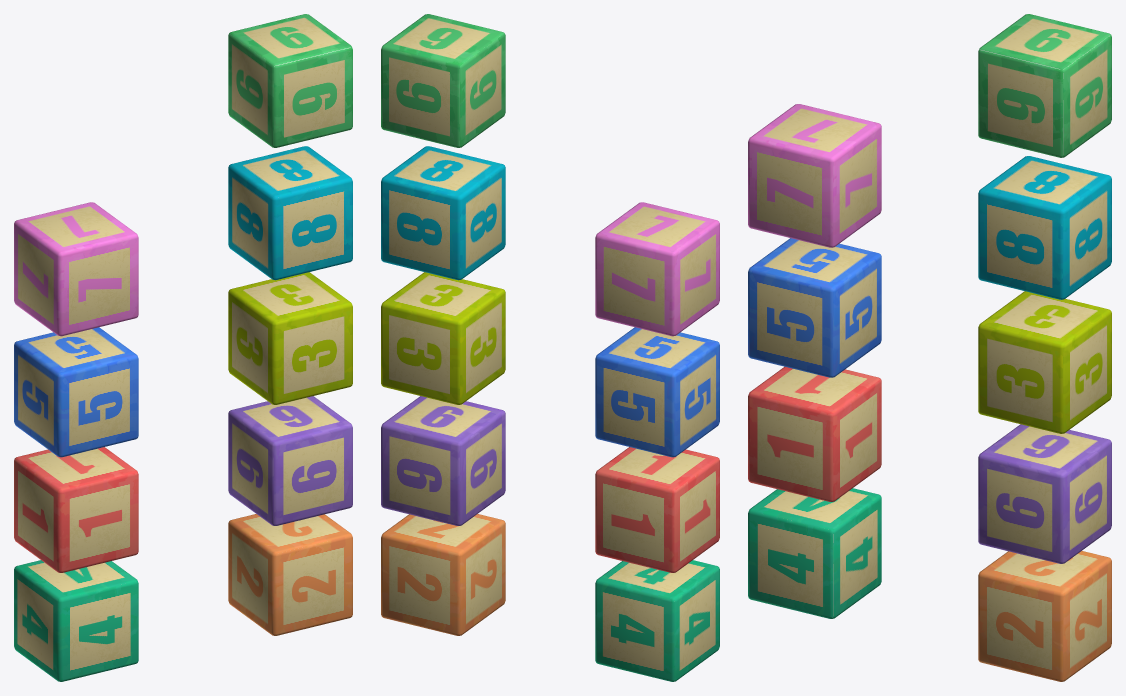
Rendered from buildingblocks.fbx.
3 views of the same model, side by side, from view 1: azimuth 30°, elevation 25°; view 2: azimuth 150°, elevation 25°; view 3: azimuth 330°, elevation 25° (orthographic). The views are drawn at different scales.
Visible parts, largest first — view 1: buildingblock_7, buildingblock_8, buildingblock_9, buildingblock_3, buildingblock_6, buildingblock_5, buildingblock_1, buildingblock_2, buildingblock_4; view 2: buildingblock_7, buildingblock_8, buildingblock_9, buildingblock_3, buildingblock_6, buildingblock_5, buildingblock_1, buildingblock_2, buildingblock_4; view 3: buildingblock_8, buildingblock_7, buildingblock_9, buildingblock_3, buildingblock_5, buildingblock_6, buildingblock_1, buildingblock_2, buildingblock_4.
Part boxes in pixels (x1,y1,x2,y2): buildingblock_7: (14,202,138,336); buildingblock_8: (228,146,352,280); buildingblock_9: (228,14,352,147); buildingblock_3: (228,272,352,404); buildingblock_6: (228,396,352,525); buildingblock_5: (14,327,138,457); buildingblock_1: (14,447,138,572); buildingblock_2: (228,514,352,635); buildingblock_4: (14,560,138,681); buildingblock_7: (595,202,719,336); buildingblock_8: (381,146,505,280); buildingblock_9: (381,14,505,147); buildingblock_3: (381,272,505,404); buildingblock_6: (381,396,505,525); buildingblock_5: (595,327,719,457); buildingblock_1: (595,447,719,572); buildingblock_2: (381,514,505,635); buildingblock_4: (595,560,719,681); buildingblock_8: (978,156,1111,299); buildingblock_7: (748,104,881,247); buildingblock_9: (978,14,1111,157); buildingblock_3: (978,291,1111,433); buildingblock_5: (748,238,881,377); buildingblock_6: (978,424,1111,563); buildingblock_1: (748,366,881,501); buildingblock_2: (978,551,1111,681); buildingblock_4: (748,488,881,618).
Bounding box in the file's own units: 922 × 1708 × 253.
